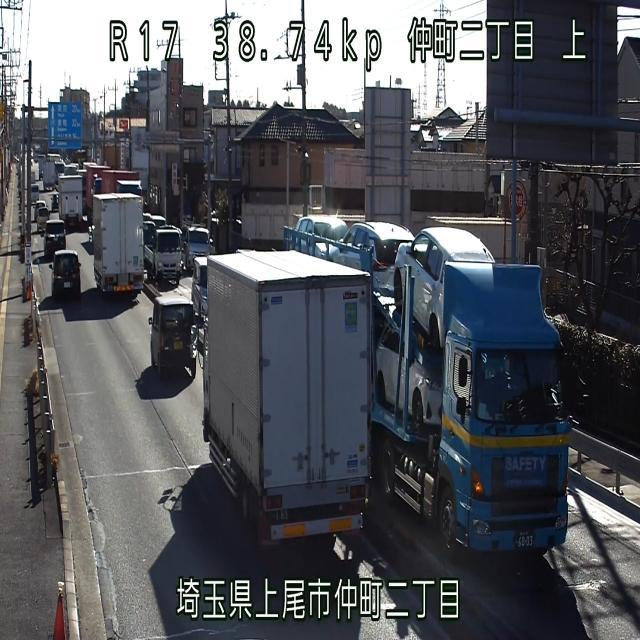16-Wheelers: (368, 224, 572, 556)
Traffic-sign: (46, 100, 83, 150)
Truck: (199, 247, 375, 552)
